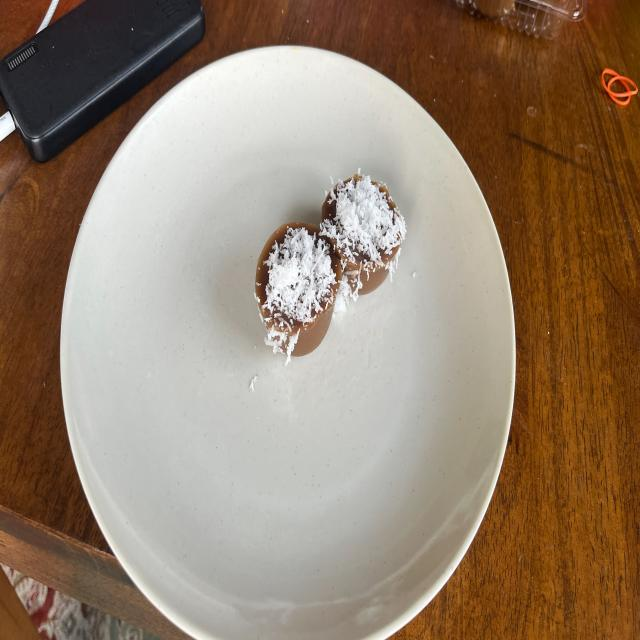Kuih lompang: (255, 222, 342, 362), (320, 171, 406, 298)
